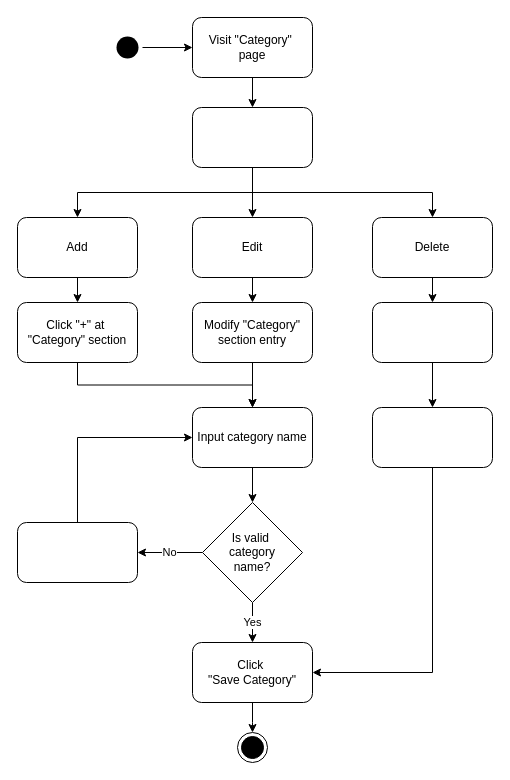
The diagram is 510 pixels wide and 780 high, and some of its shapes have lost their labels. The centre of each missing label's shape, as x and y in pixels:
Click "-" at "Category" section entry: (x=432, y=332)
Click "Edit Category": (x=252, y=137)
Entry is removed: (x=432, y=437)
Rectify input: (x=77, y=552)
